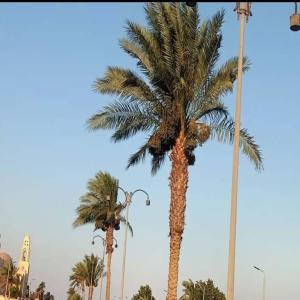palm tree: (83, 2, 255, 298), (72, 169, 132, 298)
